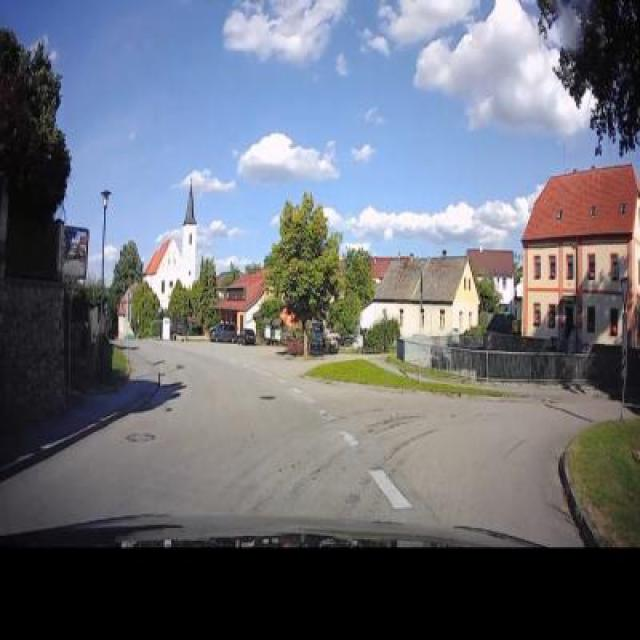clear-road: (0, 357, 620, 546)
